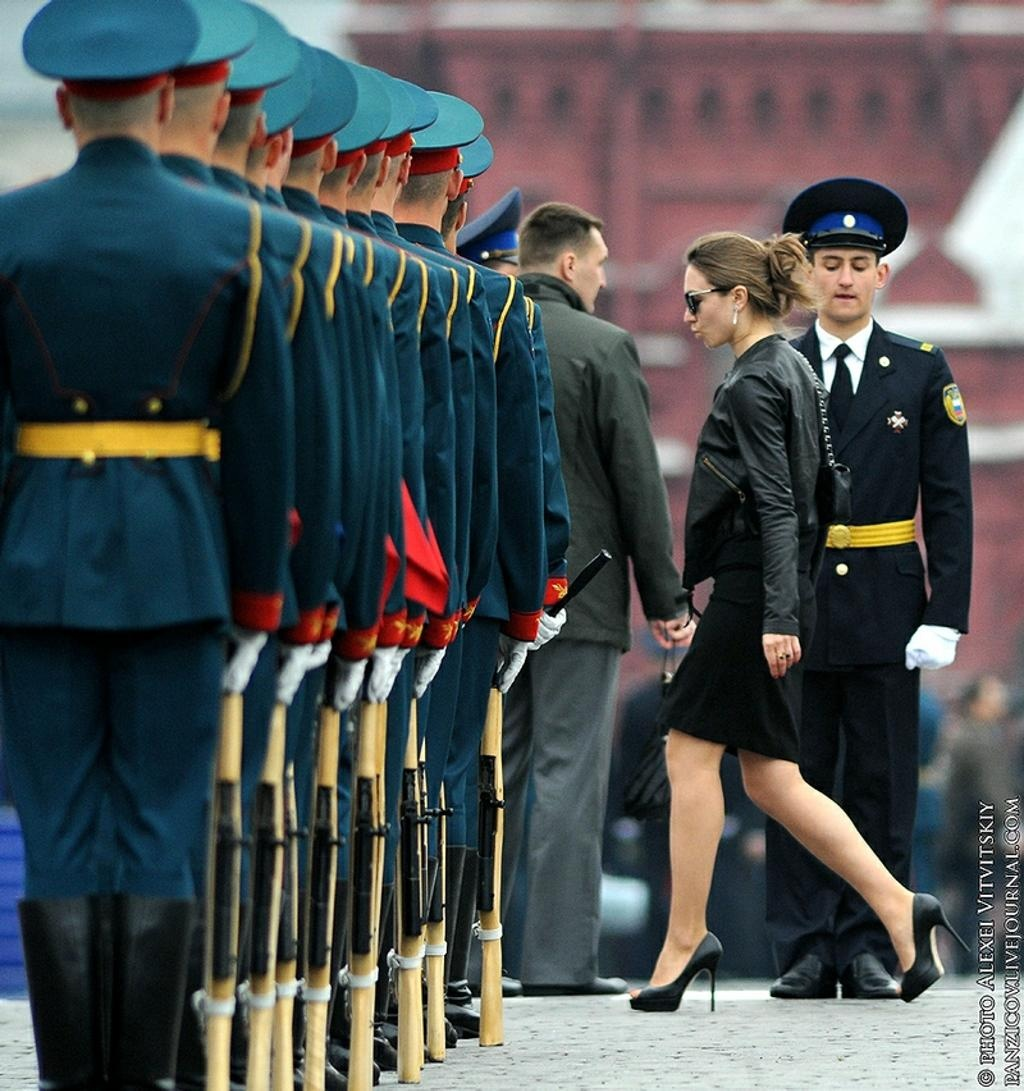human_face: (555, 228, 607, 312), (814, 246, 876, 316), (683, 268, 731, 348), (480, 250, 526, 319)
